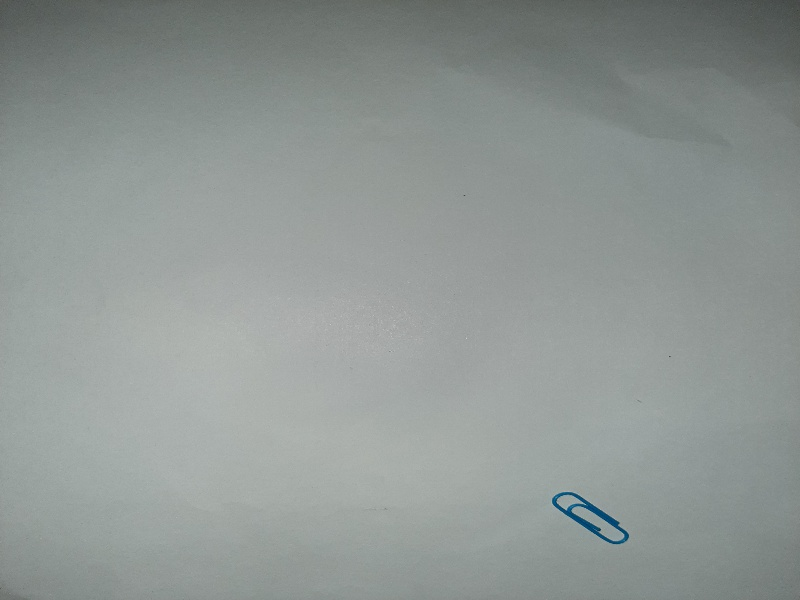Small Jumpclip: (546, 486, 638, 552)
